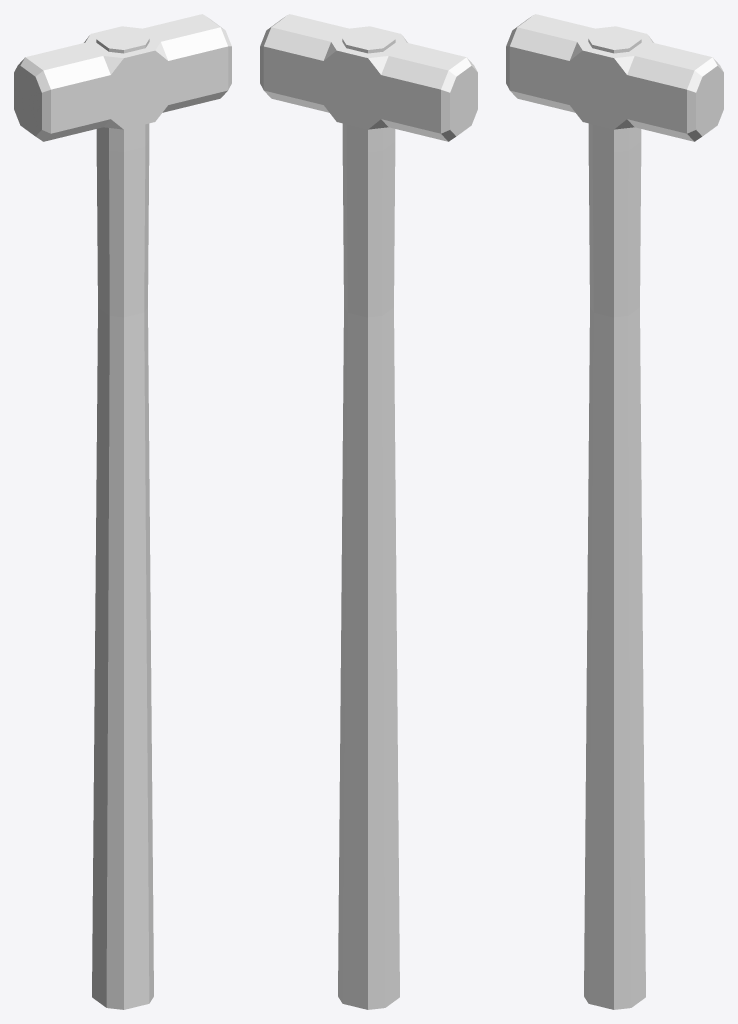
File: Tool_Sledge_Hammer_01.glb
The picture shows the model from 3 angles, left to right: view 1: azimuth 30°, elevation 25°; view 2: azimuth 150°, elevation 25°; view 3: azimuth 330°, elevation 25°; orthographic projection.
Parts seen in each view (by area): view 1: Tool_Sledge Hammer_01; view 2: Tool_Sledge Hammer_01; view 3: Tool_Sledge Hammer_01.
Part boxes in pixels (x1,y1,x2,y2): Tool_Sledge Hammer_01: (14, 14, 231, 1009); Tool_Sledge Hammer_01: (260, 14, 477, 1009); Tool_Sledge Hammer_01: (506, 14, 723, 1009).
Size of the model in its own units: 0.1899 by 0.9147 by 0.0574.
Materials: 1 (1 with a texture image).
